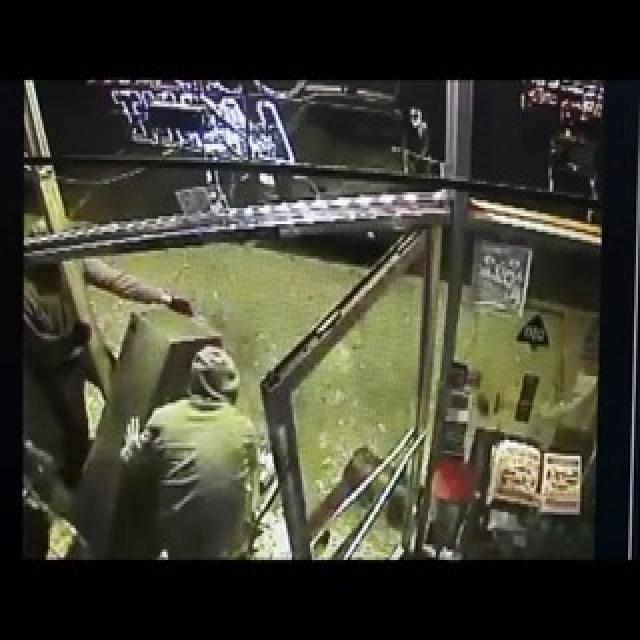thief: (16, 202, 96, 344), (141, 322, 231, 428)
